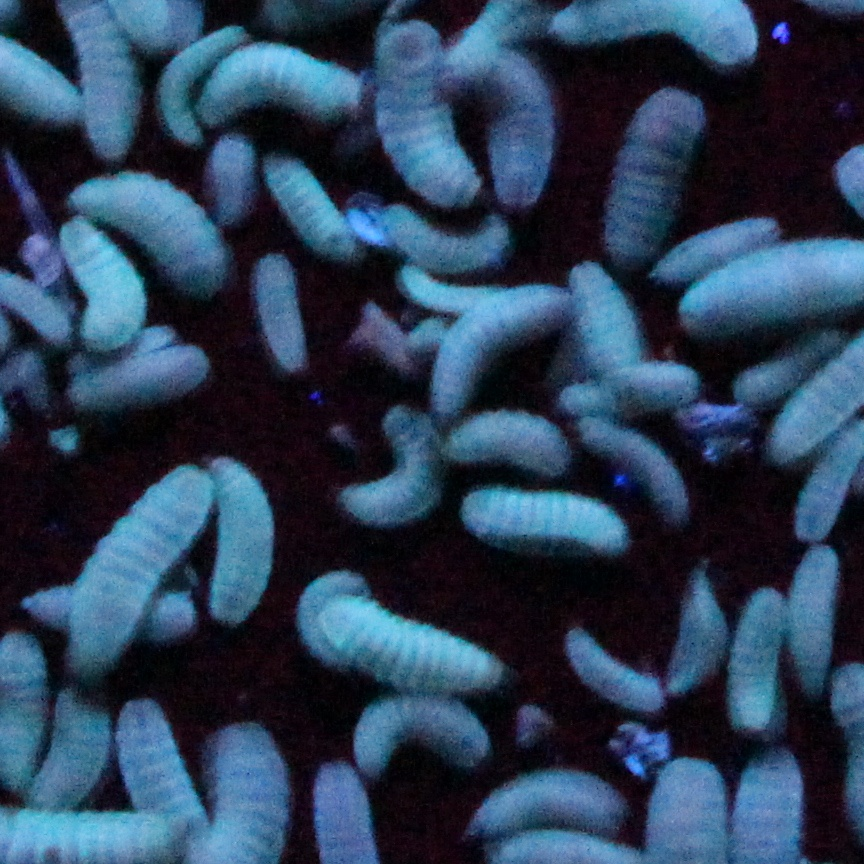larve: (71, 461, 221, 656), (350, 19, 493, 210), (62, 165, 237, 290), (597, 79, 713, 267), (457, 32, 568, 199), (332, 598, 519, 696), (433, 283, 573, 412), (193, 41, 364, 136), (459, 479, 642, 558), (46, 214, 155, 345), (575, 403, 699, 516), (255, 141, 370, 259), (339, 407, 446, 521), (115, 705, 206, 836), (470, 767, 635, 836), (208, 447, 271, 625), (244, 248, 328, 378), (70, 345, 221, 416), (644, 210, 779, 287), (157, 23, 241, 141), (559, 630, 677, 714), (350, 698, 493, 765), (35, 679, 111, 805), (570, 256, 642, 387), (386, 201, 517, 268), (24, 585, 199, 634), (439, 412, 581, 472), (786, 541, 841, 690), (664, 565, 728, 688), (568, 359, 710, 414), (728, 592, 784, 728), (297, 572, 361, 667), (204, 125, 257, 221)
